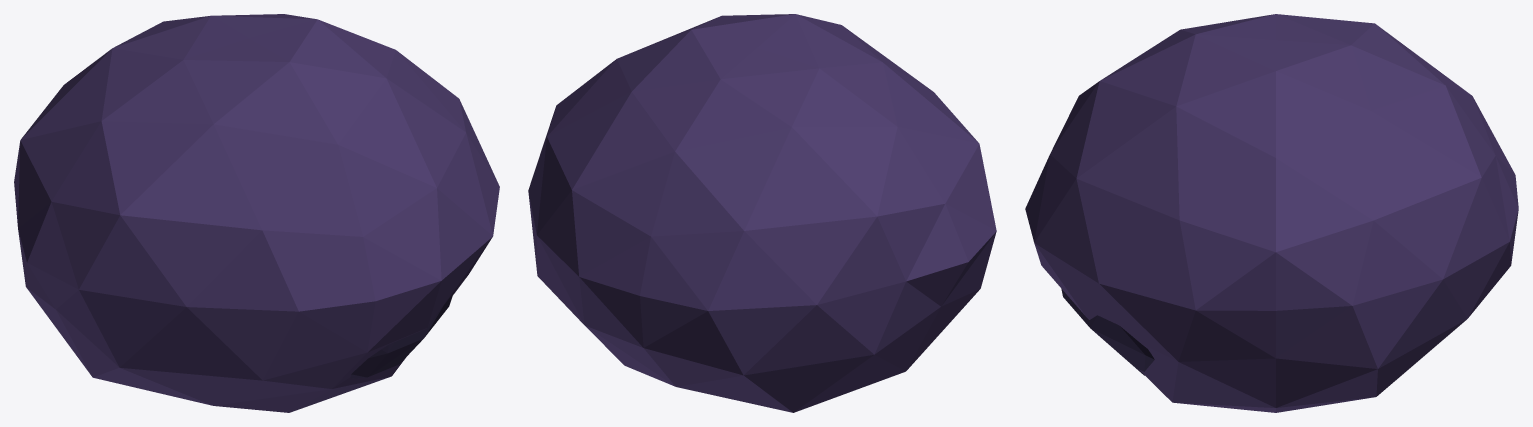
The model's file is wave.glb.
The picture shows the model from 3 angles, left to right: view 1: azimuth 30°, elevation 25°; view 2: azimuth 150°, elevation 25°; view 3: azimuth 270°, elevation 25°; orthographic projection. The views are drawn at different scales.
Parts seen in each view (by area): view 1: Model; view 2: Model; view 3: Model.
Boxes of the visible parts, box(x1,y1,x2,y2) form: Model: box(14, 14, 499, 412); Model: box(528, 14, 996, 412); Model: box(1025, 14, 1518, 412).
Size of the model in its own units: 0.6924 by 0.5361 by 0.6898.
1 material, 1 textured.
